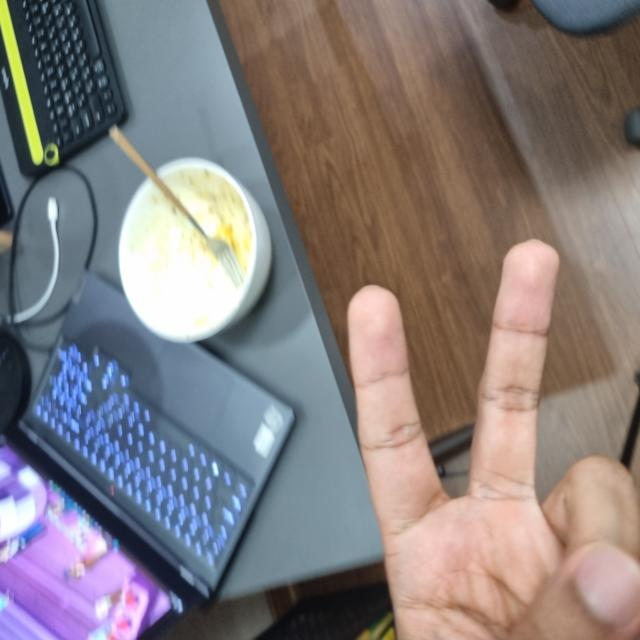Scissors: (0, 351, 394, 640)
